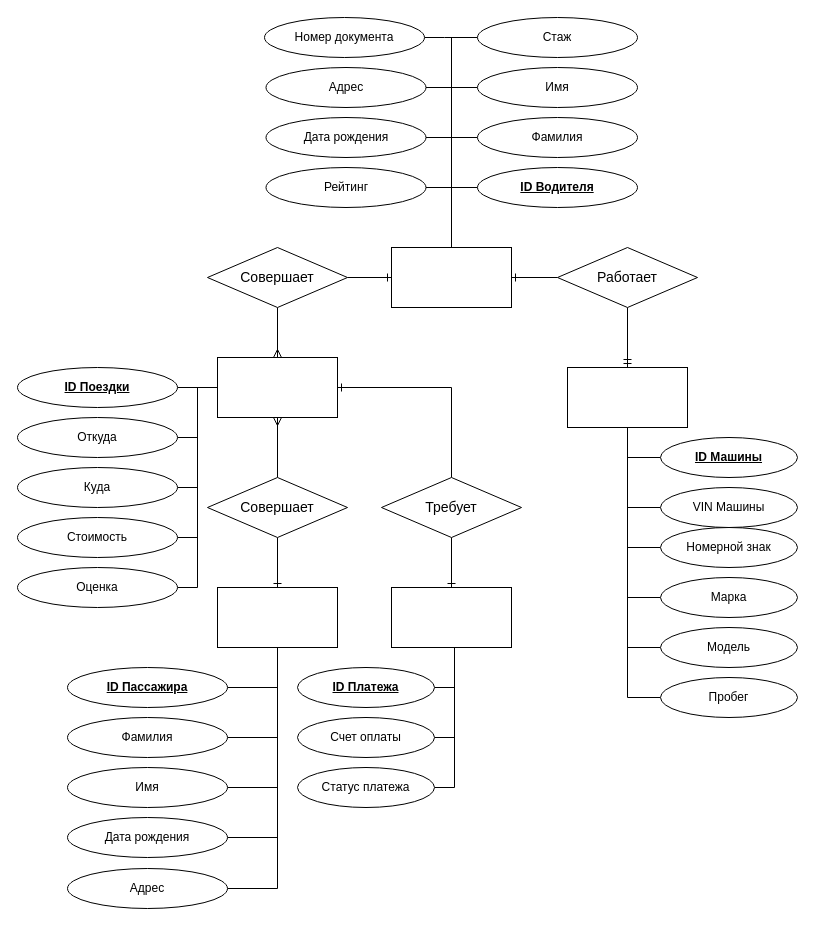
Some shapes in this 815 by 926 pixel diagram are drawn without their labels. Each missing label, with the centre of its shape:
"Водитель" goes at (x=451, y=277).
"Машина" goes at (x=627, y=397).
"Пассажир" goes at (x=277, y=617).
"Платеж" goes at (x=451, y=617).
"Поездка" goes at (x=277, y=387).
